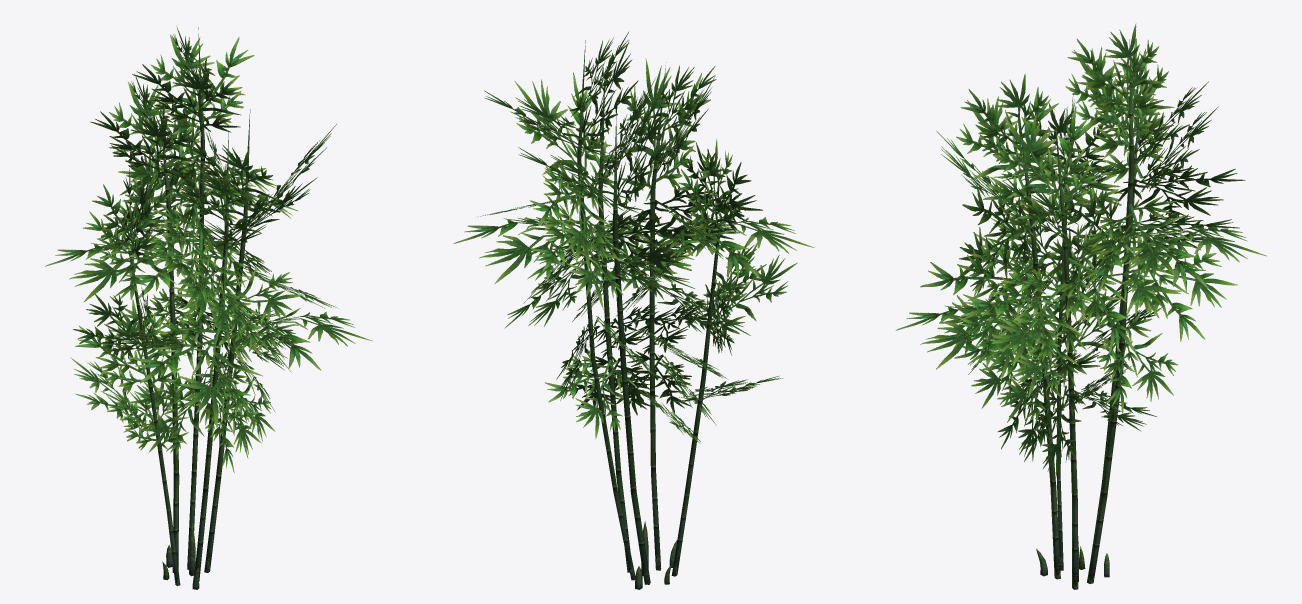
File: Dingqingchuan_wujian_17.FBX
3 renders of one model, left to right at view 1: azimuth 30°, elevation 25°; view 2: azimuth 150°, elevation 25°; view 3: azimuth 270°, elevation 25°, orthographic. The views are drawn at different scales.
Visible parts, largest first — view 1: Object001, Cylinder37, plant_tre05; view 2: Object001, Cylinder37, plant_tre05; view 3: Object001, Cylinder37.
Boxes of the visible parts, left/top/right/bottom form: Object001: left=45, top=26, right=372, bottom=472; Cylinder37: left=129, top=27, right=250, bottom=585; plant_tre05: left=162, top=523, right=199, bottom=589; Object001: left=453, top=32, right=814, bottom=443; Cylinder37: left=577, top=40, right=720, bottom=584; plant_tre05: left=635, top=521, right=677, bottom=589; Object001: left=895, top=23, right=1266, bottom=477; Cylinder37: left=1015, top=39, right=1141, bottom=589.
Size of the model in its own units: 3.74 by 6.35 by 4.31.
